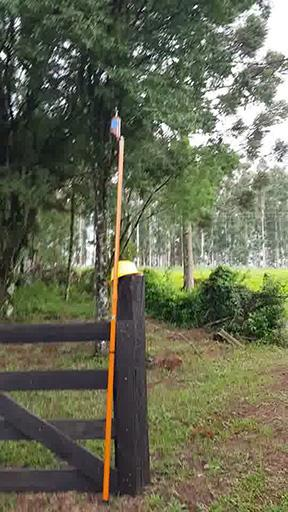Vara_Manobra: (101, 138, 125, 503)
